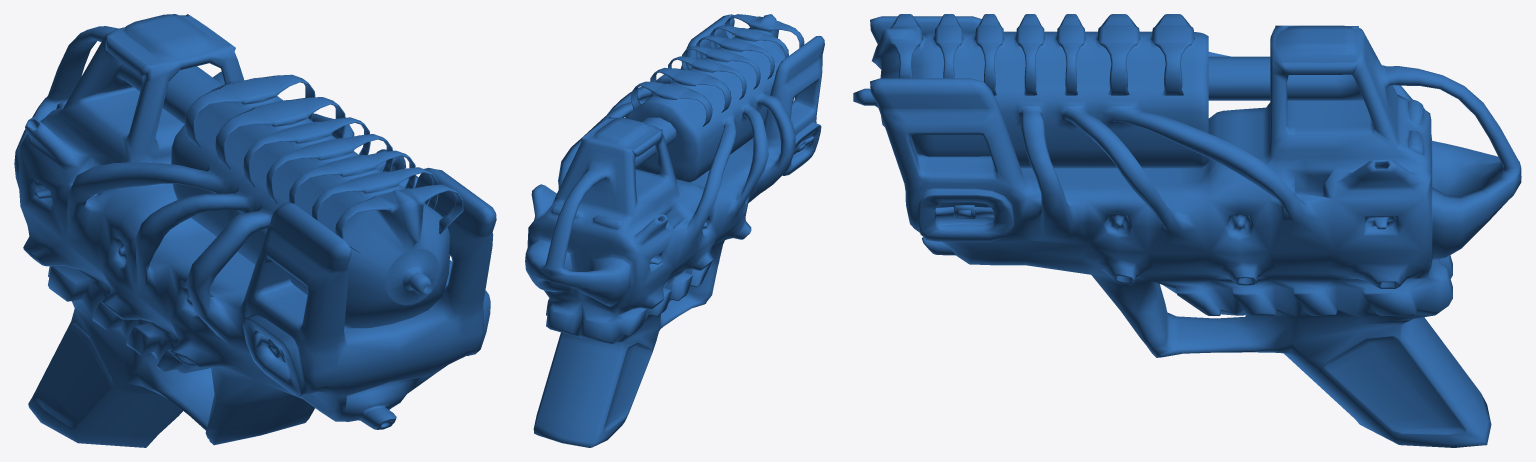
Rendered from GunPapa.fbx.
3 views of the same model, side by side, from view 1: azimuth 30°, elevation 25°; view 2: azimuth 150°, elevation 25°; view 3: azimuth 270°, elevation 25° (orthographic). The views are drawn at different scales.
Visible parts, largest first — view 1: PaintPistolWind_Body; view 2: PaintPistolWind_Body; view 3: PaintPistolWind_Body.
Boxes of the visible parts, x1,y1,x2,y2 form: PaintPistolWind_Body: (14,14,496,447); PaintPistolWind_Body: (525,14,824,447); PaintPistolWind_Body: (853,14,1521,447).
Size of the model in its own units: 120 by 195 by 296.
